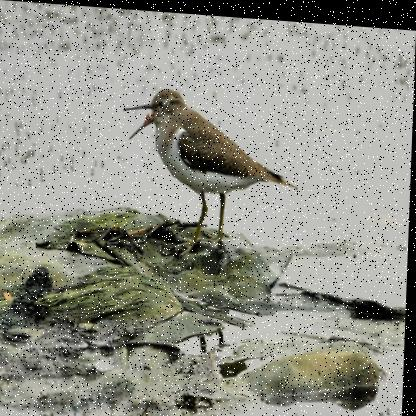Burung: (122, 77, 302, 254)
